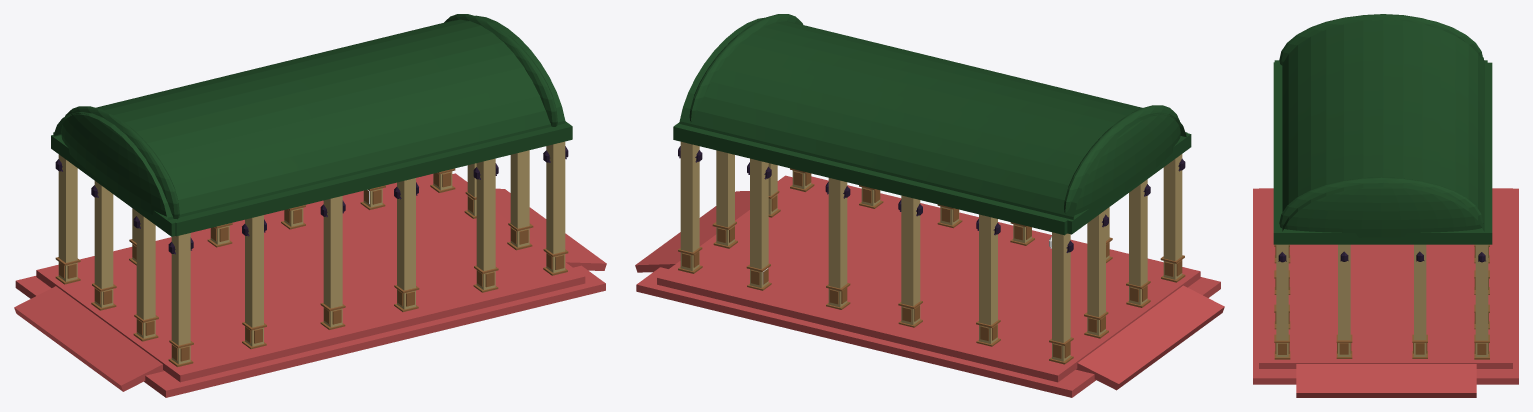
File: uac6.fbx
3 renders of one model, left to right at view 1: azimuth 30°, elevation 25°; view 2: azimuth 150°, elevation 25°; view 3: azimuth 270°, elevation 25°, orthographic. The views are drawn at different scales.
Visible parts, largest first — view 1: Cube.004, Cube.001; view 2: Cube.004, Cube.001; view 3: Cube.004, Cube.001, Cube.002.
Part boxes in pixels (<box>): Cube.004: <box>14,14,606,397</box>; Cube.001: <box>53,15,565,220</box>; Cube.004: <box>635,14,1224,397</box>; Cube.001: <box>679,17,1186,219</box>; Cube.004: <box>1253,14,1518,397</box>; Cube.001: <box>1282,14,1484,231</box>; Cube.002: <box>1282,185,1483,230</box>.
Size of the model in its own units: 3540 by 1527 by 1883.
